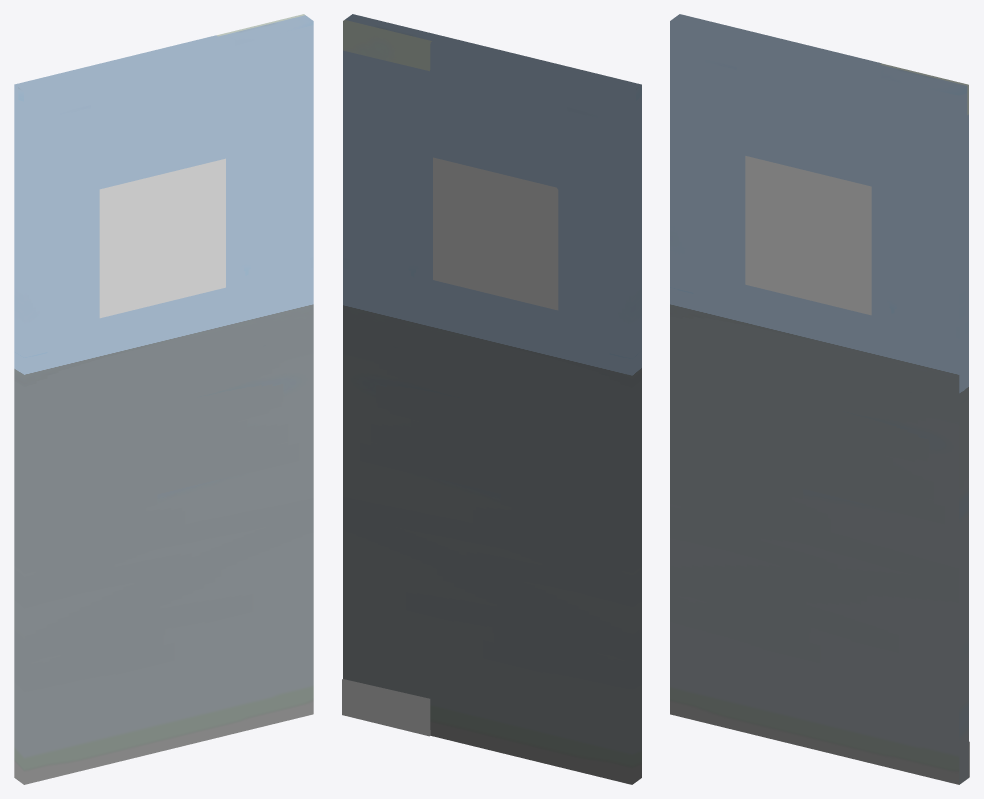
The model's file is Hurfbackcithendoor.fbx.
The picture shows the model from 3 angles, left to right: view 1: azimuth 30°, elevation 25°; view 2: azimuth 150°, elevation 25°; view 3: azimuth 330°, elevation 25°; orthographic projection.
Visible parts, largest first — view 1: polySurface7; view 2: polySurface7; view 3: polySurface7.
Part boxes in pixels (x1=…): polySurface7: x1=14, y1=14, x2=313, y2=784; polySurface7: x1=342, y1=14, x2=641, y2=784; polySurface7: x1=670, y1=14, x2=969, y2=784.
Bounding box in the file's own units: 7.99 × 18.29 × 0.5079.
